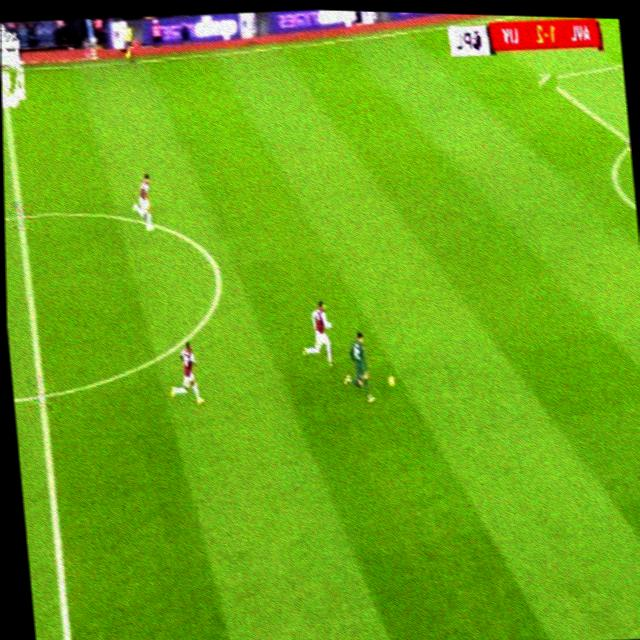bigarea_top_inner: (537, 64, 557, 90)
halfcircle_bottom: (27, 374, 58, 412)
halfcircle_top: (7, 199, 33, 231)
top_arc_area_intersection: (624, 130, 631, 153)
